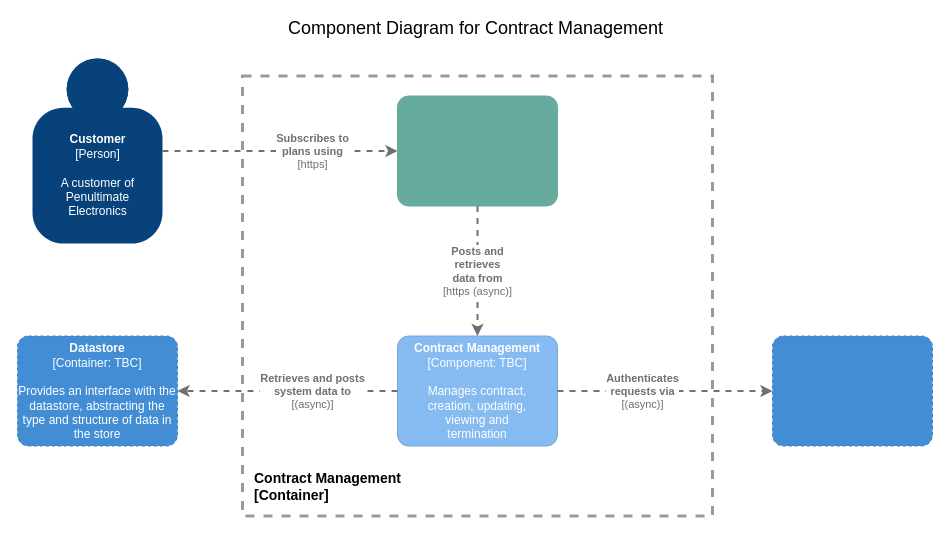
Some shapes in this 950 by 534 pixel diagram are drawn without their labels. The centre of each missing label's shape, as x and y in pixels:
Authentication [Container: TBC] Manages authentication within the system: (x=852, y=390)
Contract Management UI [Component: TBC] User interface for managing contracts: (x=477, y=150)
